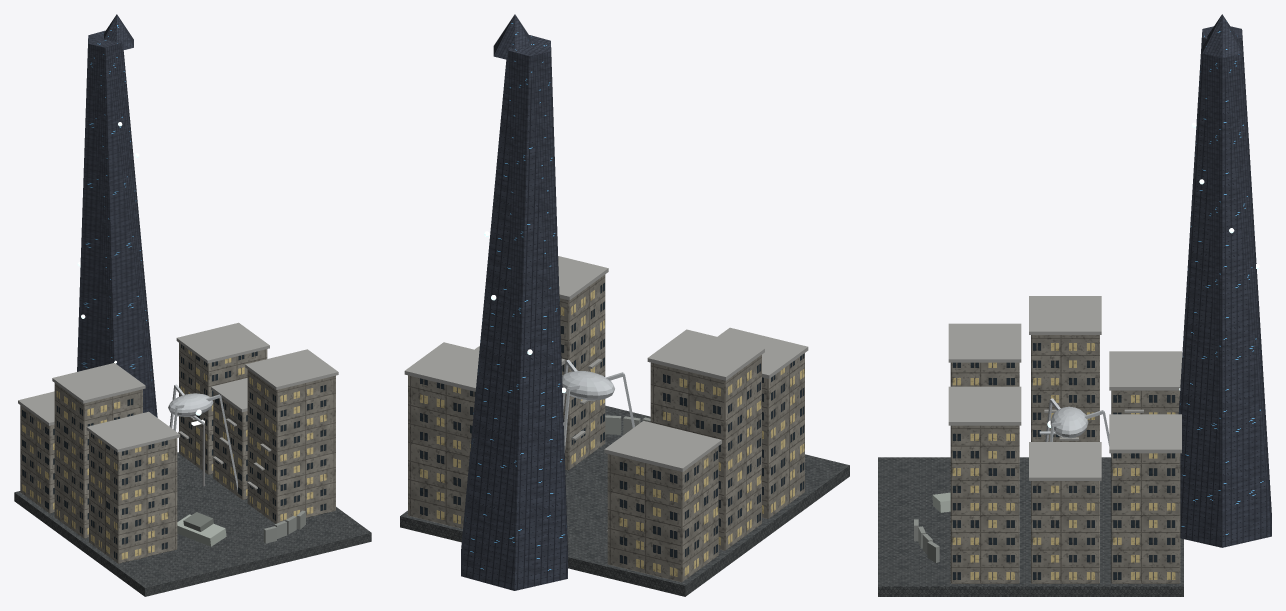
The model's file is ch5_game_8.glb.
3 views of the same model, side by side, from view 1: azimuth 30°, elevation 25°; view 2: azimuth 150°, elevation 25°; view 3: azimuth 270°, elevation 25° (orthographic). The views are drawn at different scales.
Visible parts, largest first — view 1: tower, street, block.005, block.004, block.002, block.001, block, block.003, roof_edge.002, roof_edge.004, roof_edge.005, roof_edge.001 (+5 smaller); view 2: tower, block, block.002, street, block.001, block.004, block.005, roof_edge, roof_edge.002, roof_edge.001, roof_edge.004, roof_edge.005 (+2 smaller); view 3: tower, street, block.005, block.001, block.003, block.002, roof_edge.004, roof_edge.005, roof_edge.001, roof_edge, roof_edge.002, roof_edge.003 (+4 smaller).
Part boxes in pixels (x1,y1,x2,y2): tower: (77,30,157,417); street: (14,452,371,596); block.005: (247,369,335,523); block.004: (89,432,177,563); block.002: (54,383,142,538); block.001: (179,343,267,474); block: (20,405,54,513); block.003: (213,392,247,499); roof_edge.002: (52,363,145,403); roof_edge.004: (86,411,179,452); roof_edge.005: (245,349,338,389); roof_edge.001: (176,322,269,363); tower: (461,35,567,590); block: (607,446,718,582); block.002: (650,355,761,550); street: (400,405,849,596); block.001: (408,375,475,528); block.004: (762,353,804,518); block.005: (559,274,605,470); roof_edge: (604,421,721,472); roof_edge.002: (647,329,764,380); roof_edge.001: (404,342,479,391); roof_edge.004: (717,327,808,378); roof_edge.005: (558,256,608,300); tower: (1178,26,1271,547); street: (878,457,1183,596); block.005: (950,425,1019,583); block.001: (1111,453,1180,583); block.003: (1031,481,1099,583); block.002: (1031,335,1099,441); roof_edge.004: (948,323,1021,362); roof_edge.005: (948,386,1021,425); roof_edge.001: (1109,414,1181,453); roof_edge: (1109,351,1181,390); roof_edge.002: (1029,296,1101,334); roof_edge.003: (1029,442,1101,480).
Bounding box in the file's own units: 16 × 30.1 × 20.6.
Materials: 13 (3 with a texture image).
